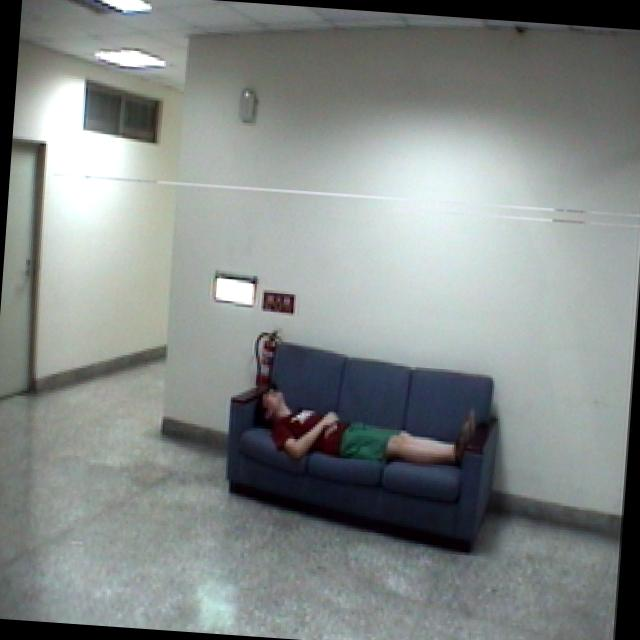lie: (250, 377, 485, 478)
